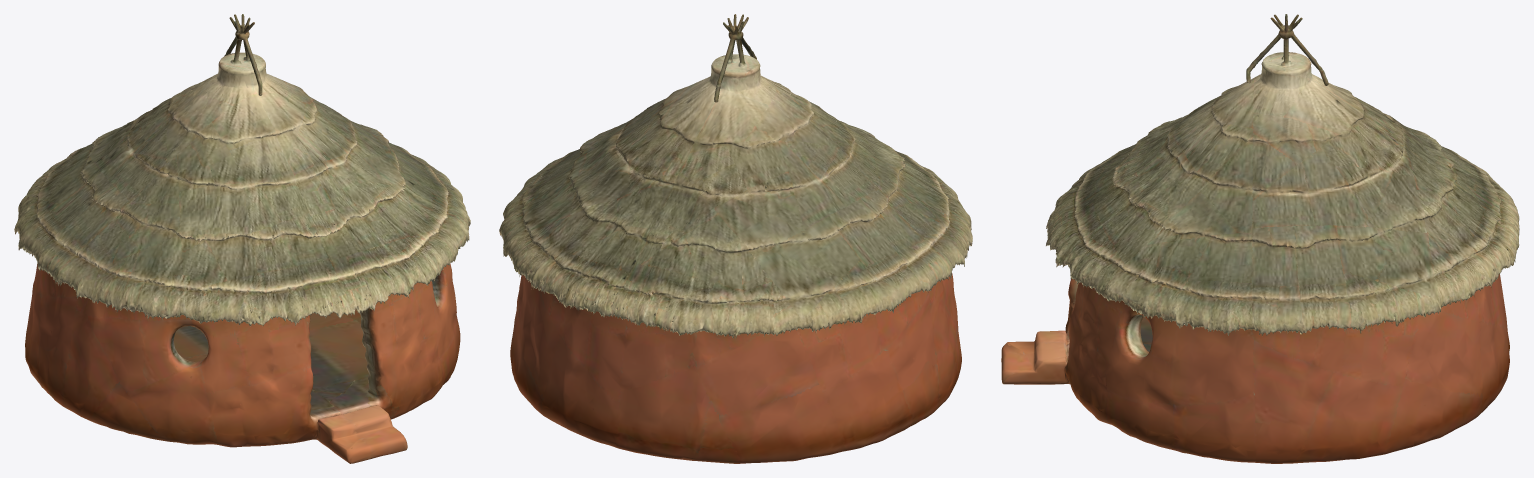
The model's file is Housetexture.glb.
3 renders of one model, left to right at view 1: azimuth 30°, elevation 25°; view 2: azimuth 150°, elevation 25°; view 3: azimuth 270°, elevation 25°, orthographic. The views are drawn at different scales.
Size of the model in its own units: 1.73 by 1.43 by 1.9.
1 material, 1 textured.
